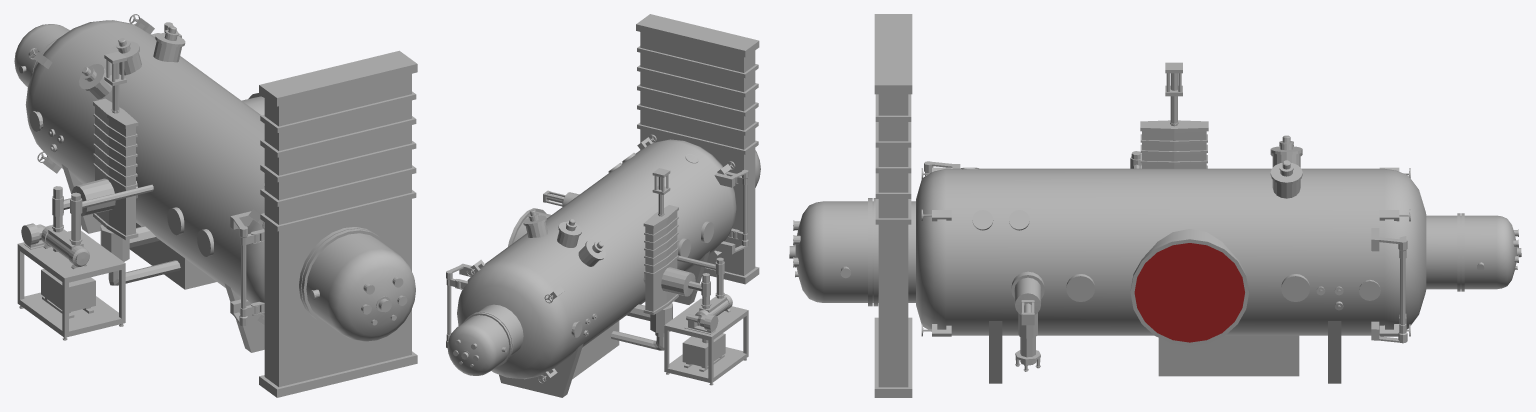
3 renders of one model, left to right at view 1: azimuth 30°, elevation 25°; view 2: azimuth 150°, elevation 25°; view 3: azimuth 270°, elevation 25°, orthographic. The views are drawn at different scales.
Parts seen in each view (by area): view 1: ZR01; view 2: ZR01; view 3: ZR01.
Boxes of the visible parts, bbox=[...] form: ZR01: bbox=[14, 14, 417, 397]; ZR01: bbox=[446, 14, 760, 397]; ZR01: bbox=[789, 14, 1521, 397].
Size of the model in its own units: 412 by 395 by 833.
